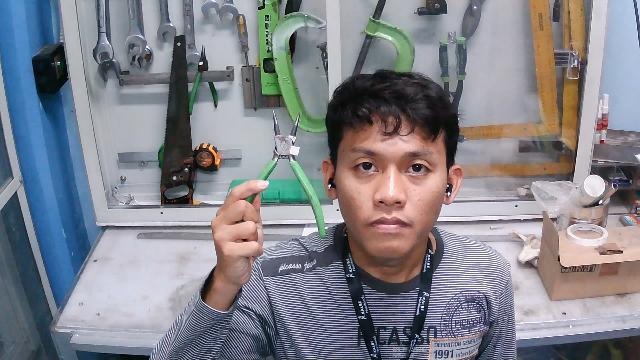tang_cucut_lancip_1: (233, 102, 332, 244)
